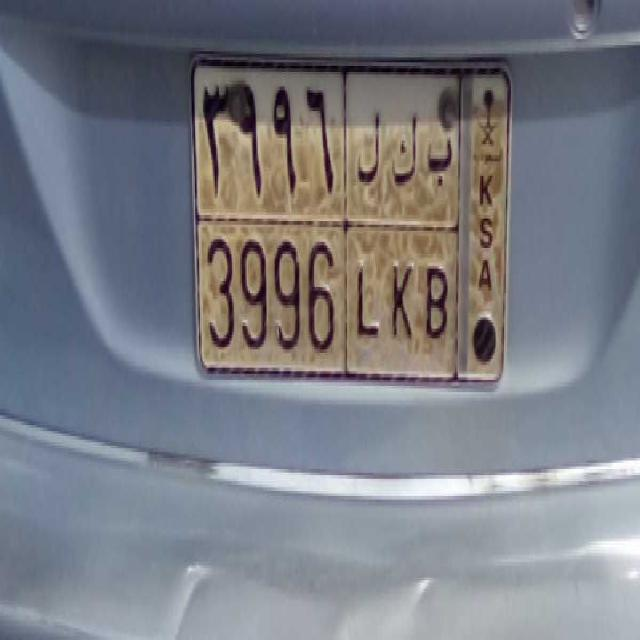license_plate: (196, 216, 458, 387)
